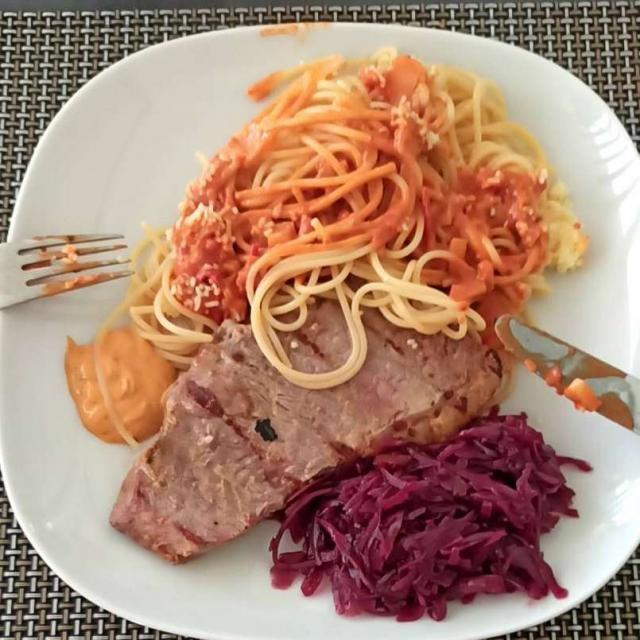beef: (117, 313, 510, 557)
cheese: (176, 48, 437, 222)
pasta: (118, 56, 590, 389)
sauce: (69, 329, 171, 433)
tomato-sauce: (173, 65, 539, 299)
